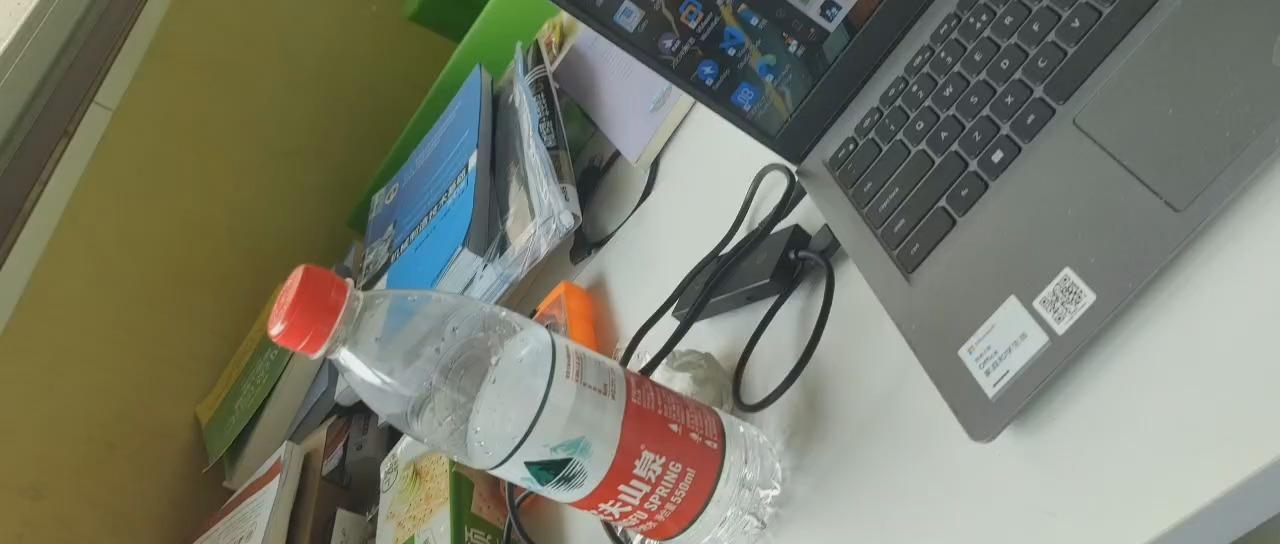BIODEGRADABLE: (271, 265, 782, 543)
